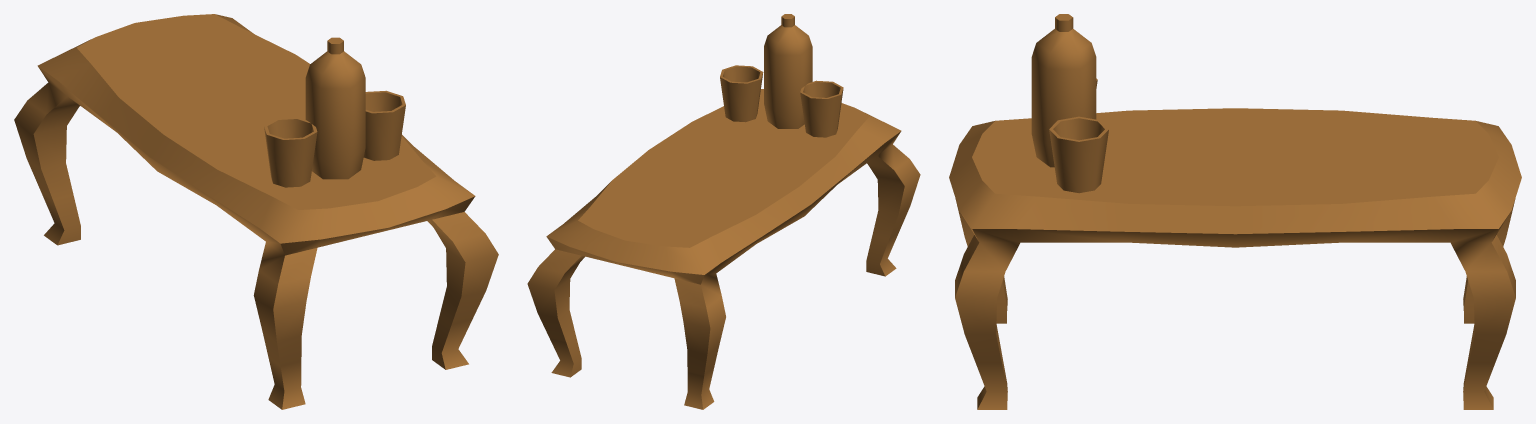
Rendered from SK_Table.fbx.
The picture shows the model from 3 angles, left to right: view 1: azimuth 30°, elevation 25°; view 2: azimuth 150°, elevation 25°; view 3: azimuth 270°, elevation 25°; orthographic projection. The views are drawn at different scales.
Visible parts, largest first — view 1: Table; view 2: Table; view 3: Table.
Boxes of the visible parts, x1,y1,x2,y2 form: Table: (14, 14, 498, 409); Table: (527, 14, 920, 409); Table: (949, 14, 1521, 409).
Size of the model in its own units: 81.51 by 109 by 166.
